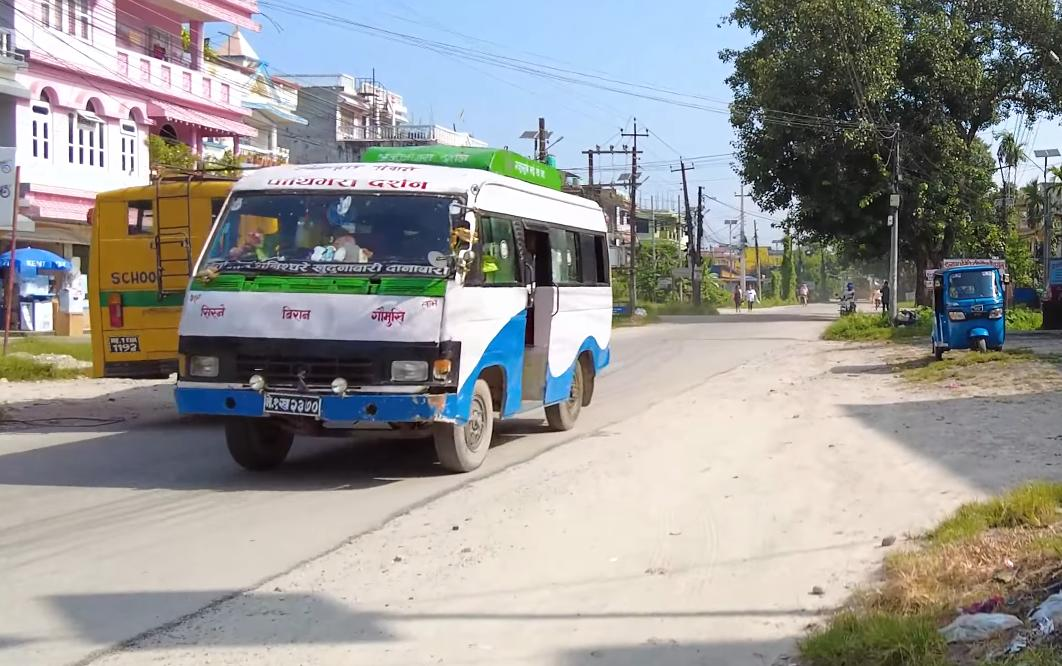auto_rickshaw: (929, 257, 1010, 361)
bus: (160, 128, 615, 458)
